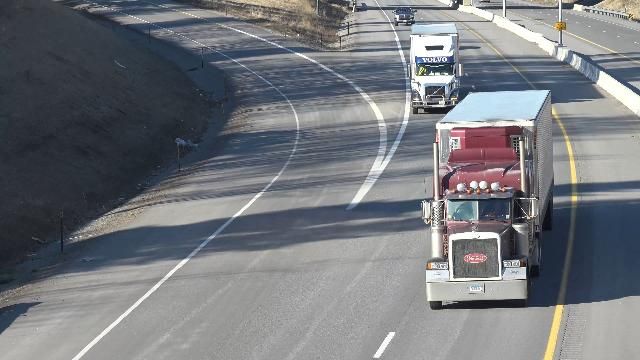car: (392, 5, 416, 28)
truck: (427, 88, 558, 308), (408, 18, 462, 117)
